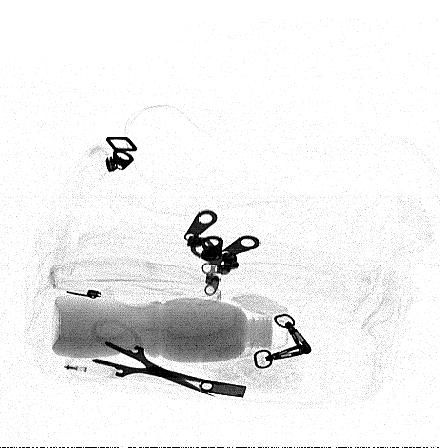Scissors: (61, 314, 233, 396)
